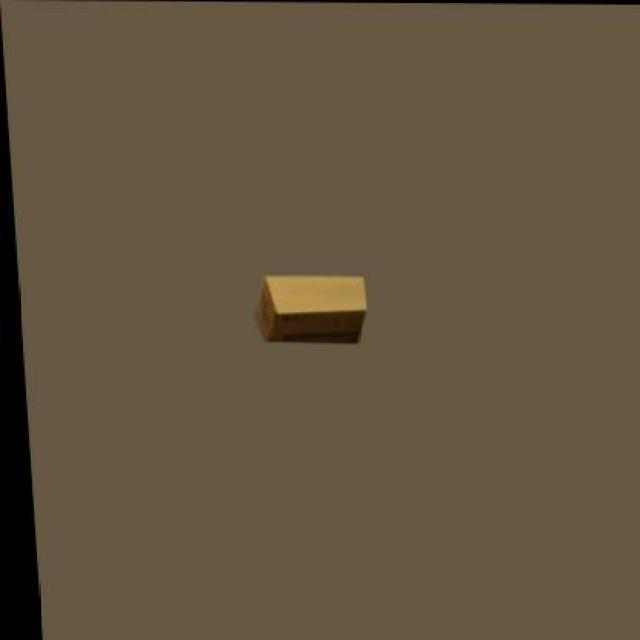box: (252, 274, 362, 336)
